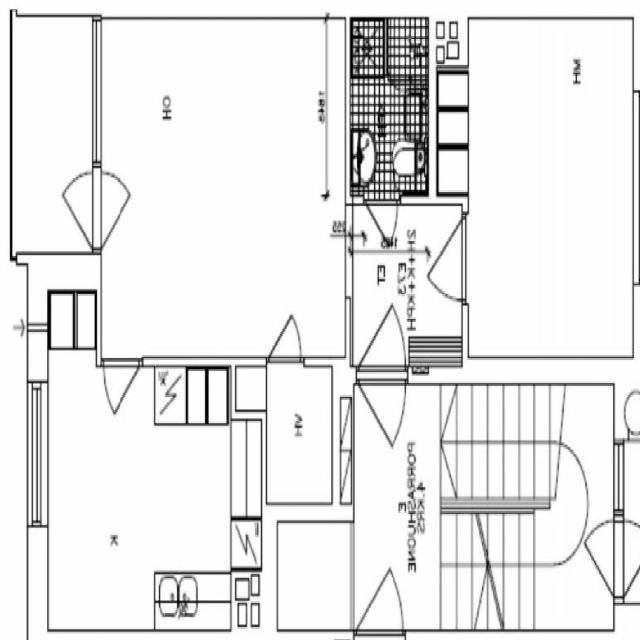door: (359, 280, 406, 384), (359, 367, 406, 471), (418, 218, 468, 300), (95, 173, 144, 250), (54, 173, 102, 250), (104, 357, 140, 431), (365, 193, 397, 263), (269, 298, 301, 365)
